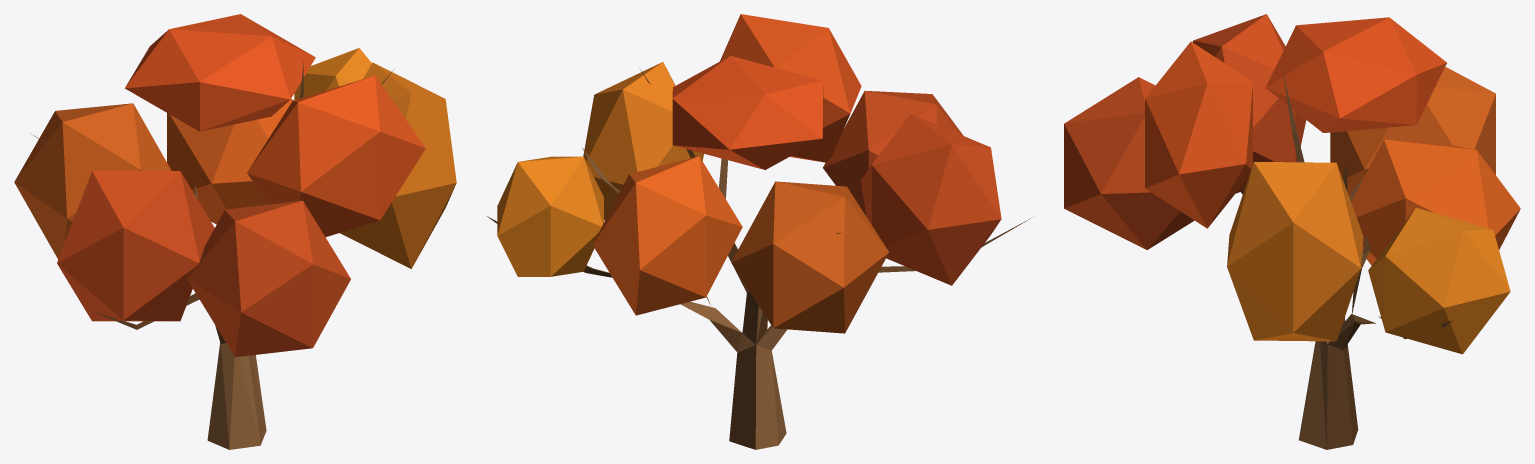
File: maple_autumn_far.glb
The picture shows the model from 3 angles, left to right: view 1: azimuth 30°, elevation 25°; view 2: azimuth 150°, elevation 25°; view 3: azimuth 270°, elevation 25°; orthographic projection. The views are drawn at different scales.
Parts seen in each view (by area): view 1: maple_autumn_far; view 2: maple_autumn_far; view 3: maple_autumn_far.
Boxes of the visible parts, x1=… form: maple_autumn_far: x1=14, y1=14, x2=456, y2=449; maple_autumn_far: x1=487, y1=14, x2=1030, y2=449; maple_autumn_far: x1=1064, y1=14, x2=1520, y2=449.
Size of the model in its own units: 7.62 by 6.42 by 6.65.
